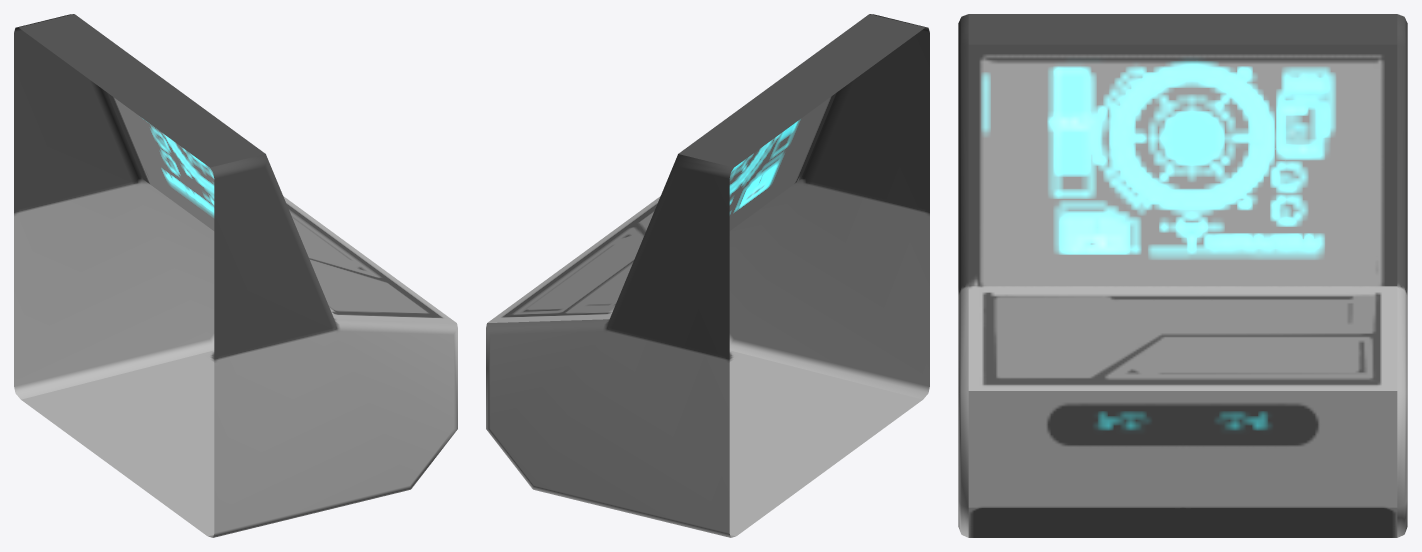
File: Pfb_Soda_Instruments.fbx
3 renders of one model, left to right at view 1: azimuth 30°, elevation 25°; view 2: azimuth 150°, elevation 25°; view 3: azimuth 270°, elevation 25°, orthographic. The views are drawn at different scales.
Visible parts, largest first — view 1: MAT_Soda_Instruments; view 2: MAT_Soda_Instruments; view 3: MAT_Soda_Instruments.
Part boxes in pixels (x1,y1,x2,y2): MAT_Soda_Instruments: (14, 14, 457, 537); MAT_Soda_Instruments: (486, 14, 929, 537); MAT_Soda_Instruments: (958, 14, 1407, 537).
Bounding box in the file's own units: 0.6814 × 0.9758 × 0.9567.
1 material, 1 textured.
